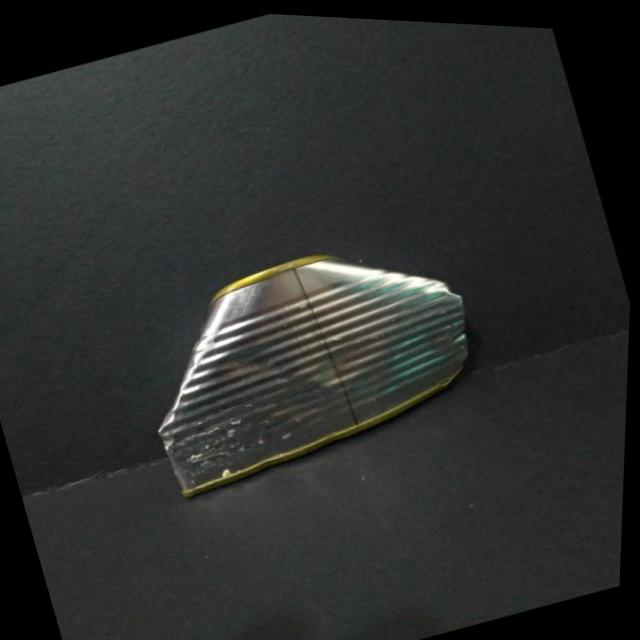metal: (159, 254, 466, 495)
